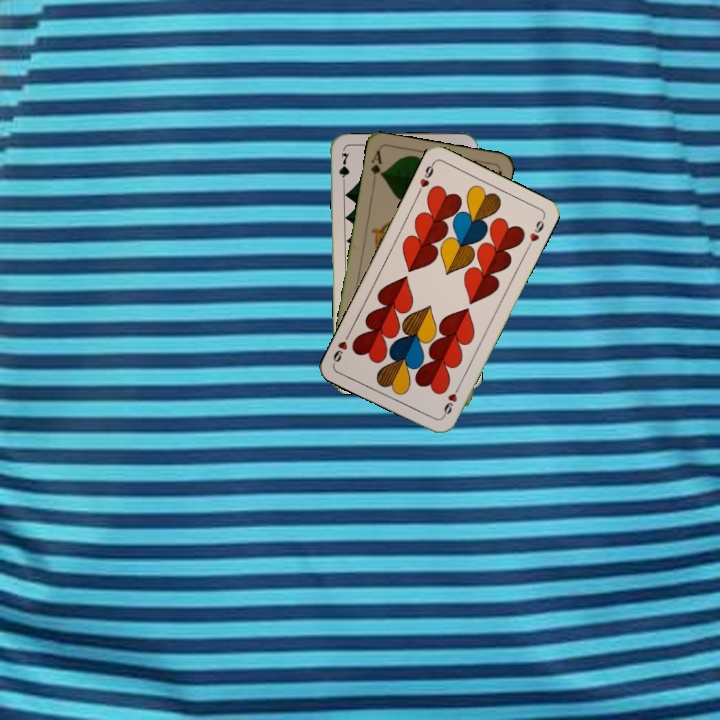G7: (335, 149, 351, 189)
GA: (367, 147, 385, 187)
H9: (438, 382, 463, 420), (413, 159, 437, 197)
